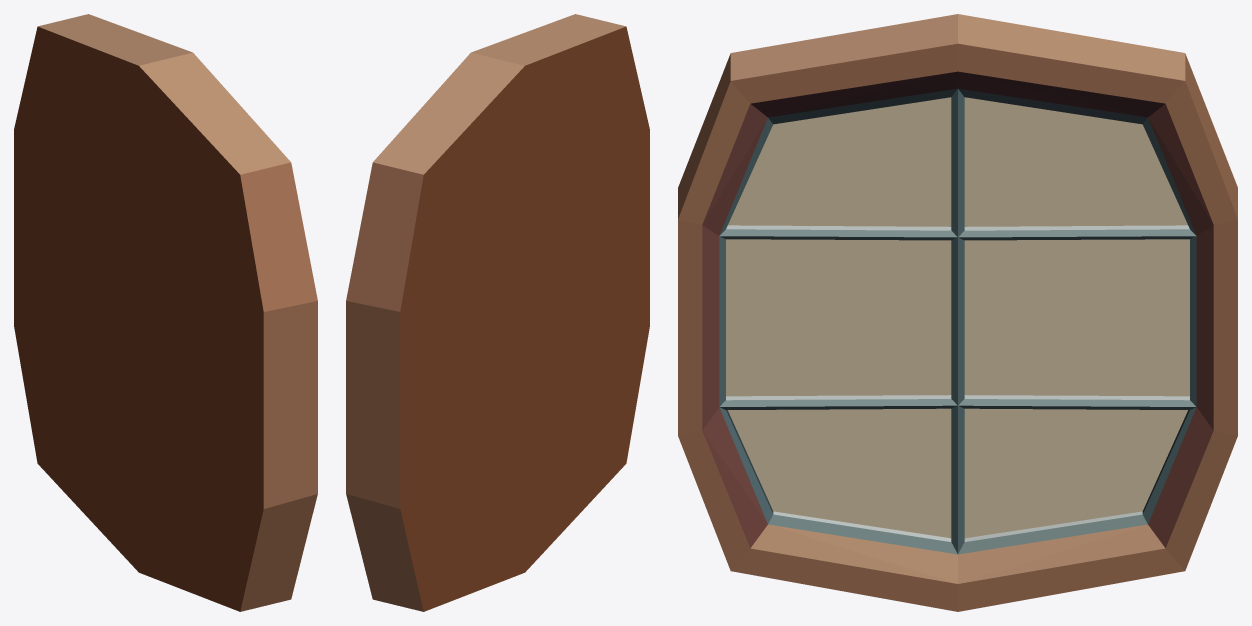
The model's file is window.fbx.
3 views of the same model, side by side, from view 1: azimuth 30°, elevation 25°; view 2: azimuth 150°, elevation 25°; view 3: azimuth 270°, elevation 25° (orthographic). The views are drawn at different scales.
Visible parts, largest first — view 1: Window; view 2: Window; view 3: Window.
Boxes of the visible parts, bbox=[...] form: Window: bbox=[14, 14, 317, 611]; Window: bbox=[346, 14, 649, 611]; Window: bbox=[678, 14, 1237, 611].
Size of the model in its own units: 2 by 0.2508 by 2.24.
